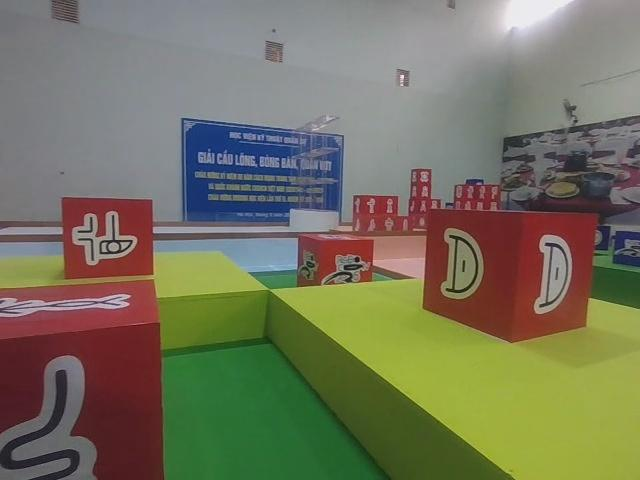R1: (294, 225, 374, 295)
R2 Fake: (0, 276, 169, 480)
R2 Real: (423, 205, 596, 346), (56, 193, 160, 280)
